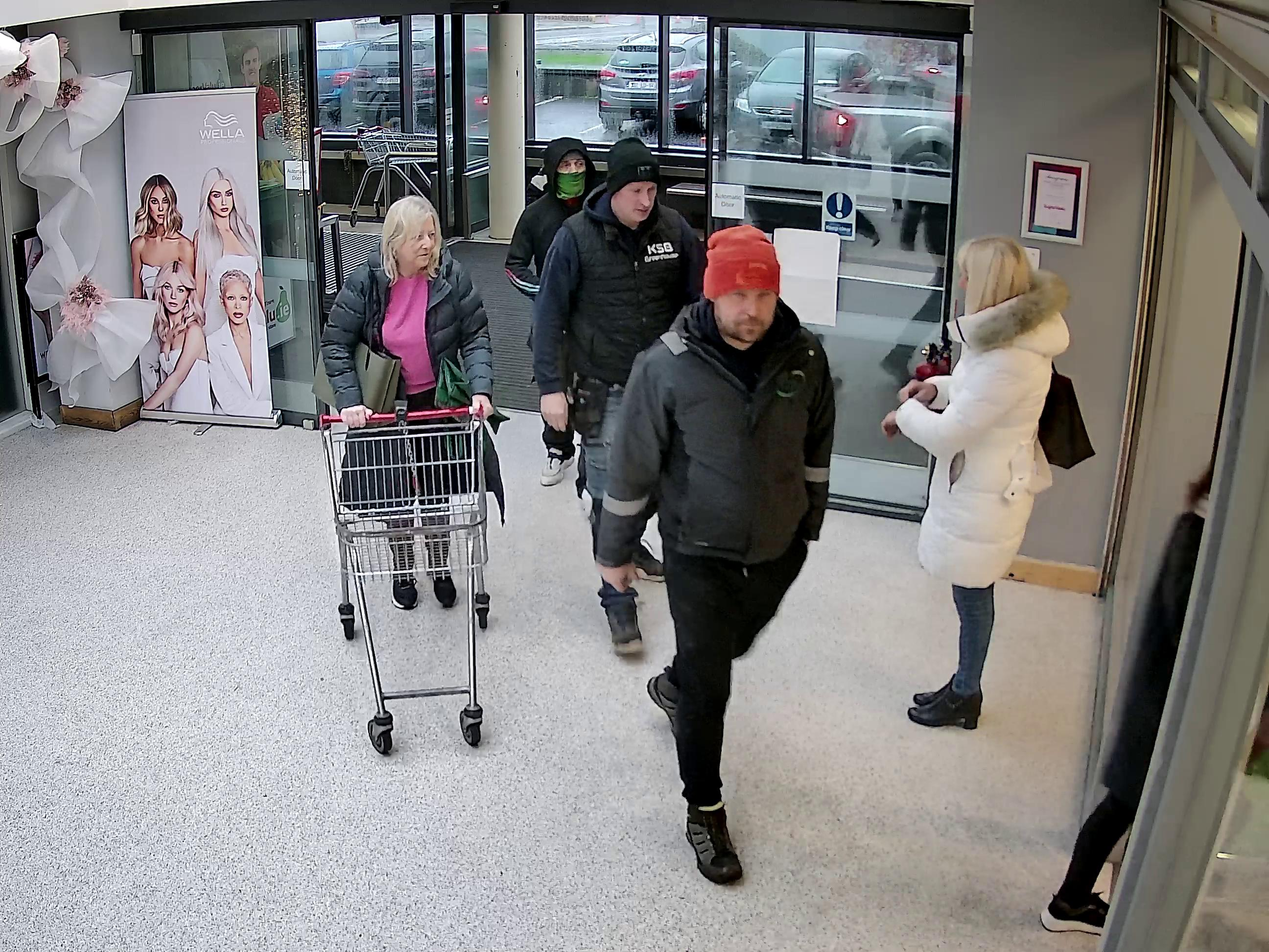backpack-or-handbag: (313, 323, 403, 424), (1033, 367, 1096, 473)
empty-trolly: (313, 404, 490, 754)
filled-shopping-bags: (434, 354, 510, 434)
person: (886, 240, 1071, 728), (322, 193, 493, 607)
person-with-backpack-handbag: (886, 235, 1097, 729)
person-with-basket-trolly-shopping-bag-s-and-backpack-handbag: (308, 190, 511, 752)
